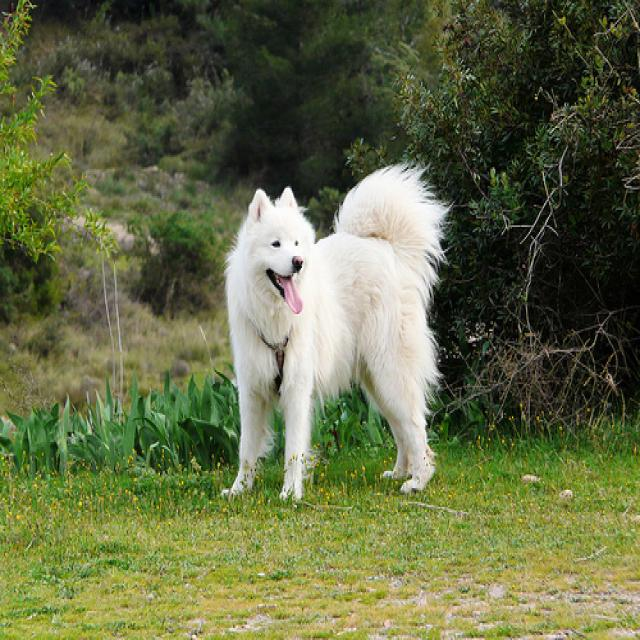dog-samoyed: (220, 157, 456, 509)
